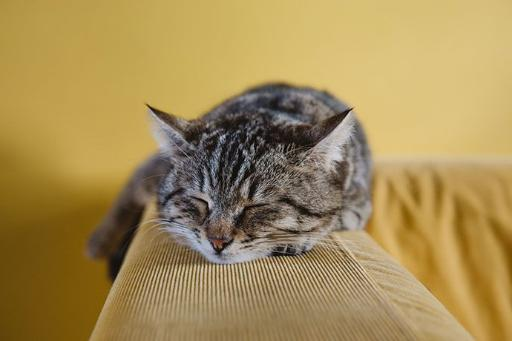cat_sleeping: (88, 83, 372, 278)
